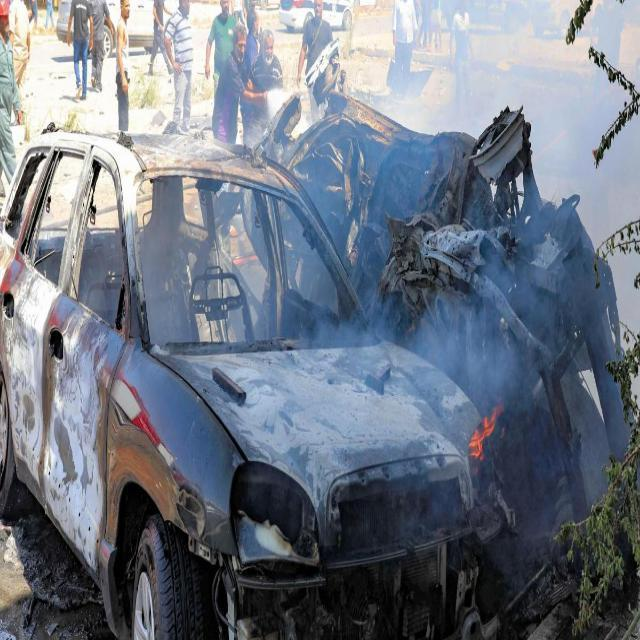Fire: (463, 412, 496, 459)
